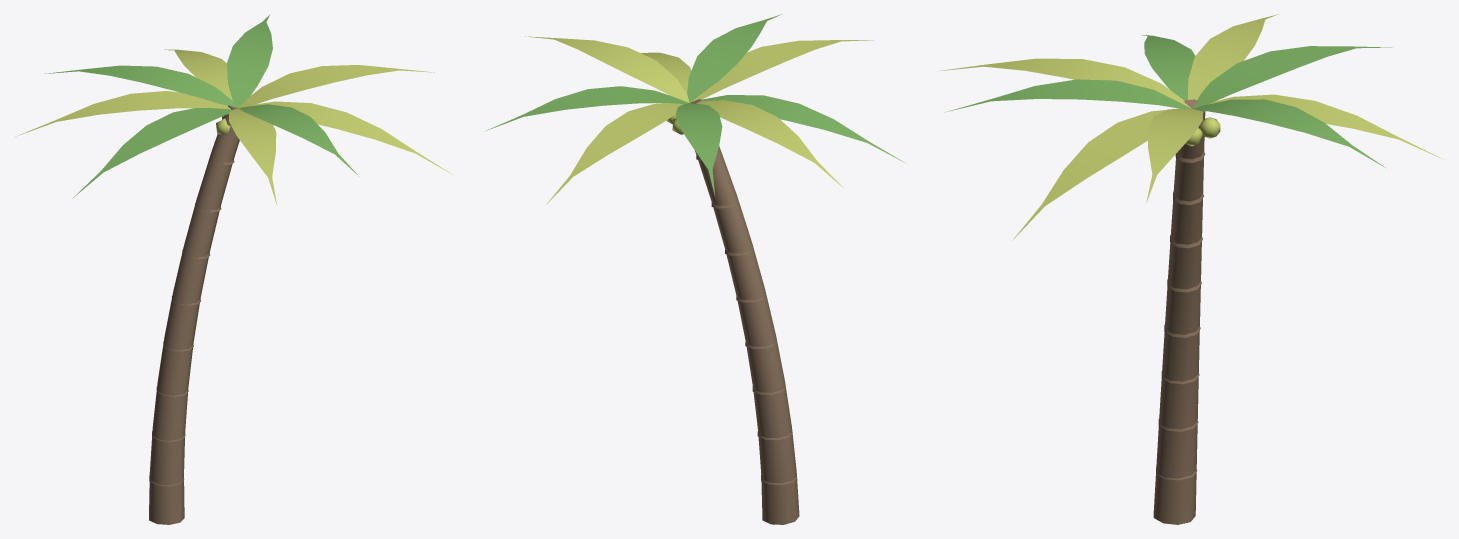
Rendered from tree_palm.fbx.
3 views of the same model, side by side, from view 1: azimuth 30°, elevation 25°; view 2: azimuth 150°, elevation 25°; view 3: azimuth 270°, elevation 25° (orthographic). The views are drawn at different scales.
Parts seen in each view (by area): view 1: tree_palm_LOD0; view 2: tree_palm_LOD0; view 3: tree_palm_LOD0.
Boxes of the visible parts, left/top/right/bottom form: tree_palm_LOD0: left=15, top=15, right=451, bottom=524; tree_palm_LOD0: left=486, top=14, right=904, bottom=524; tree_palm_LOD0: left=938, top=14, right=1443, bottom=524.
Size of what is drawn, in the model's own units: 8.3 by 8.76 by 8.46.
